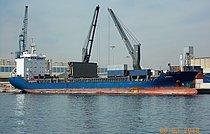Ship: (6, 4, 207, 99)
